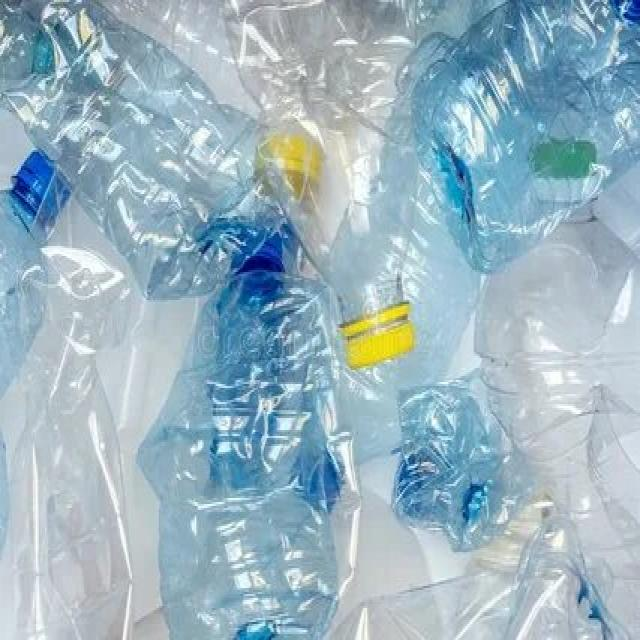blue: (0, 2, 287, 308), (130, 258, 358, 637), (410, 0, 638, 272)
